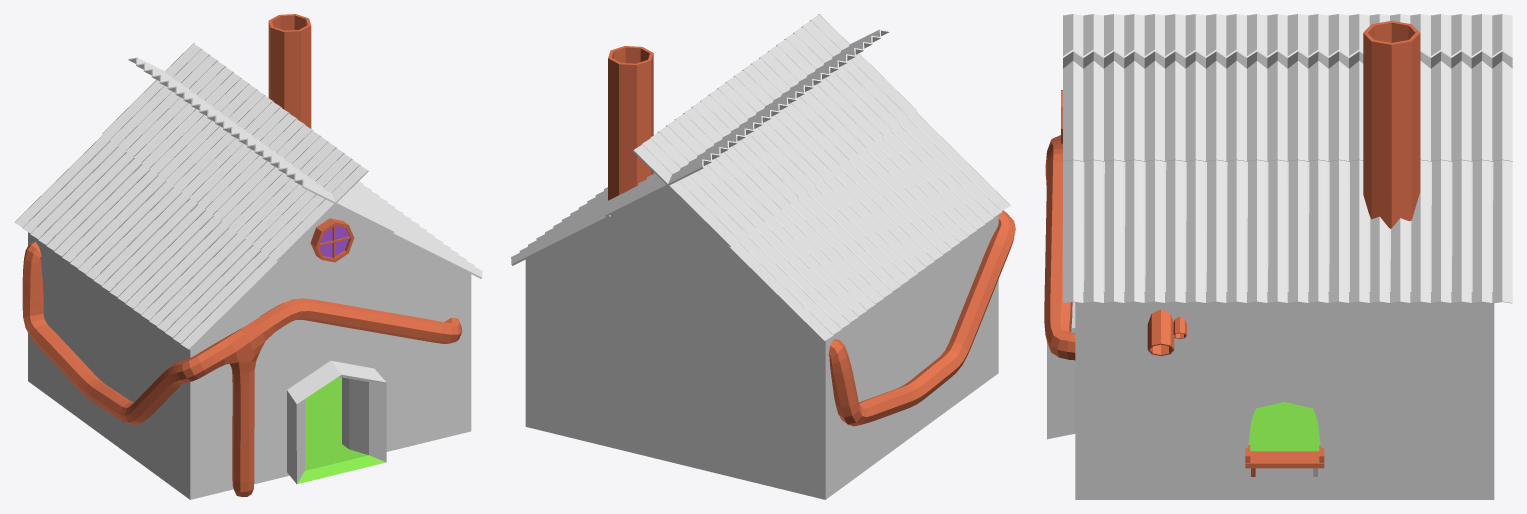
File: izba.fbx
The picture shows the model from 3 angles, left to right: view 1: azimuth 30°, elevation 25°; view 2: azimuth 150°, elevation 25°; view 3: azimuth 270°, elevation 25°; orthographic projection. The views are drawn at different scales.
Parts seen in each view (by area): view 1: Cube.001; view 2: Cube.001; view 3: Cube.001.
Boxes of the visible parts, bbox=[...] form: Cube.001: bbox=[14, 14, 482, 499]; Cube.001: bbox=[511, 14, 1015, 499]; Cube.001: bbox=[1044, 14, 1512, 499].
Bounding box in the file's own units: 1673 × 1684 × 1640.
